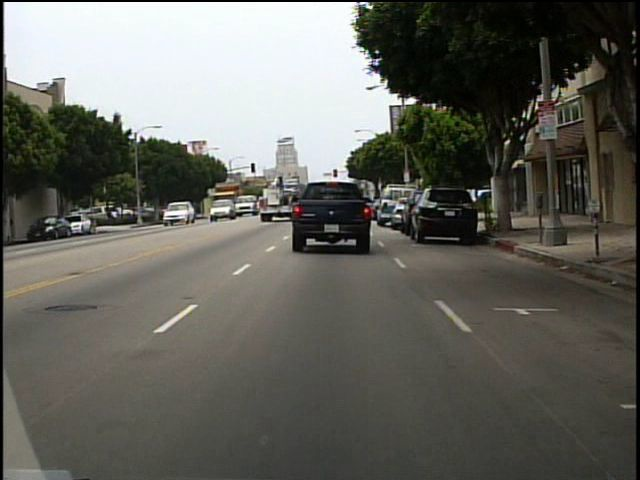person: (465, 187, 482, 211)
